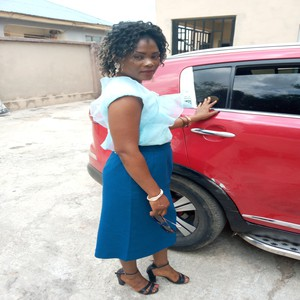Fulokoja_female_student: (100, 23, 178, 283)
